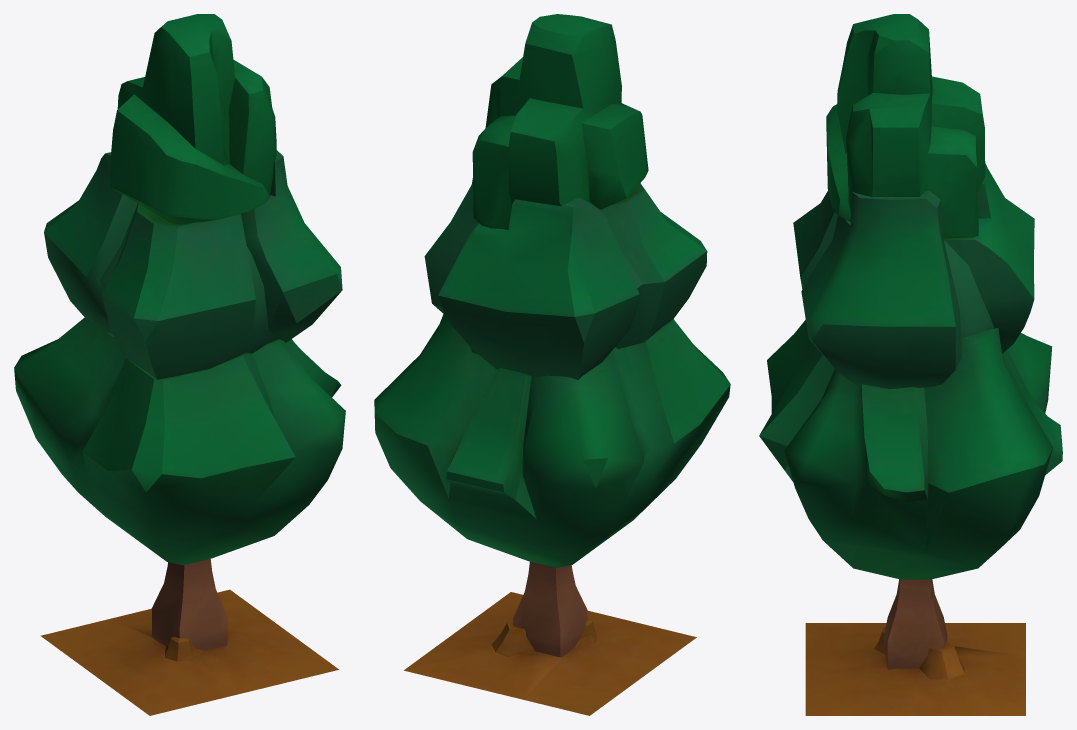
Rendered from FOL_Foliage_04.obj.
3 views of the same model, side by side, from view 1: azimuth 30°, elevation 25°; view 2: azimuth 150°, elevation 25°; view 3: azimuth 270°, elevation 25° (orthographic). The views are drawn at different scales.
Parts seen in each view (by area): view 1: FOL_Foliage_04; view 2: FOL_Foliage_04; view 3: FOL_Foliage_04.
Boxes of the visible parts, x1,y1,x2,y2 form: FOL_Foliage_04: (14,14,345,715); FOL_Foliage_04: (374,14,730,715); FOL_Foliage_04: (759,14,1062,715).
Size of the model in its own units: 1.64 by 3.86 by 1.65.
Materials: 1 (1 with a texture image).
